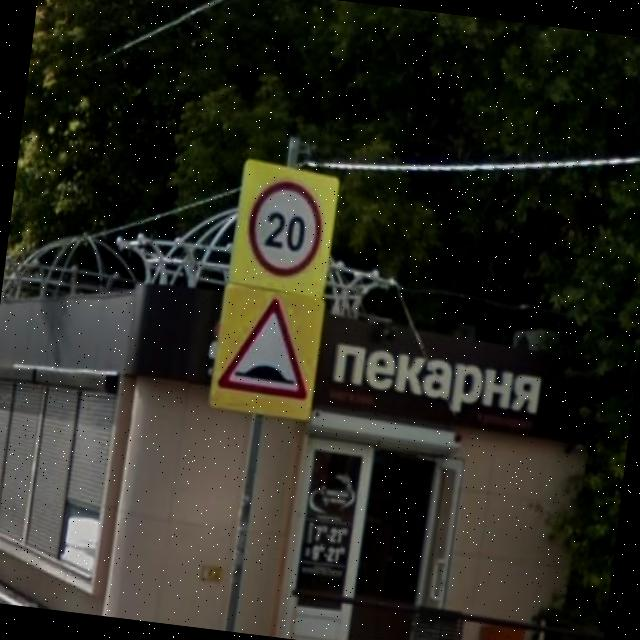Ograniczenie predkosci do 20: (240, 170, 332, 286)
